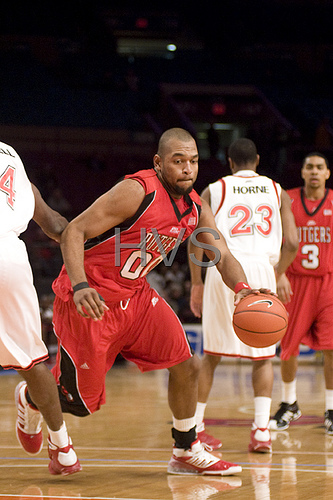basketball: (234, 294, 287, 347)
